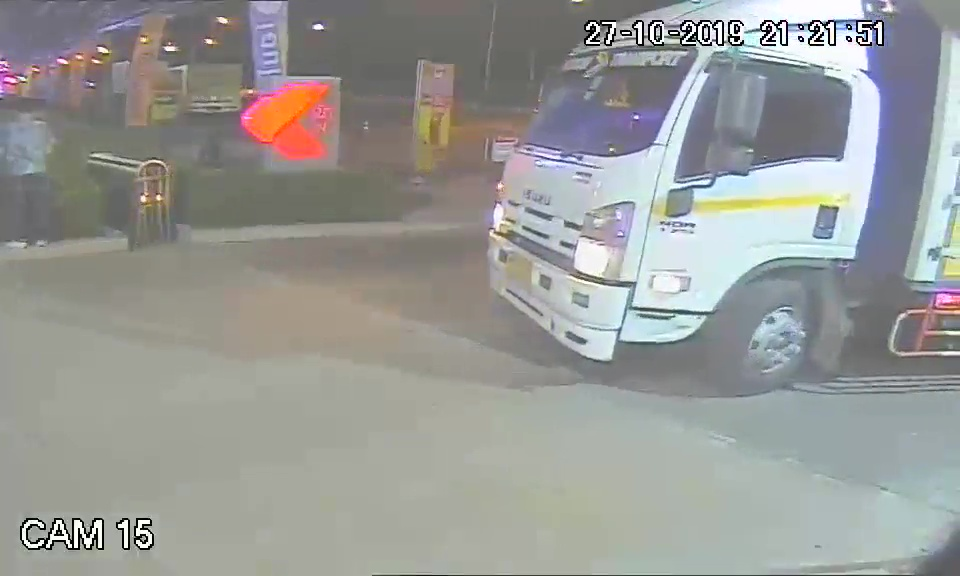truck: (481, 6, 896, 400)
